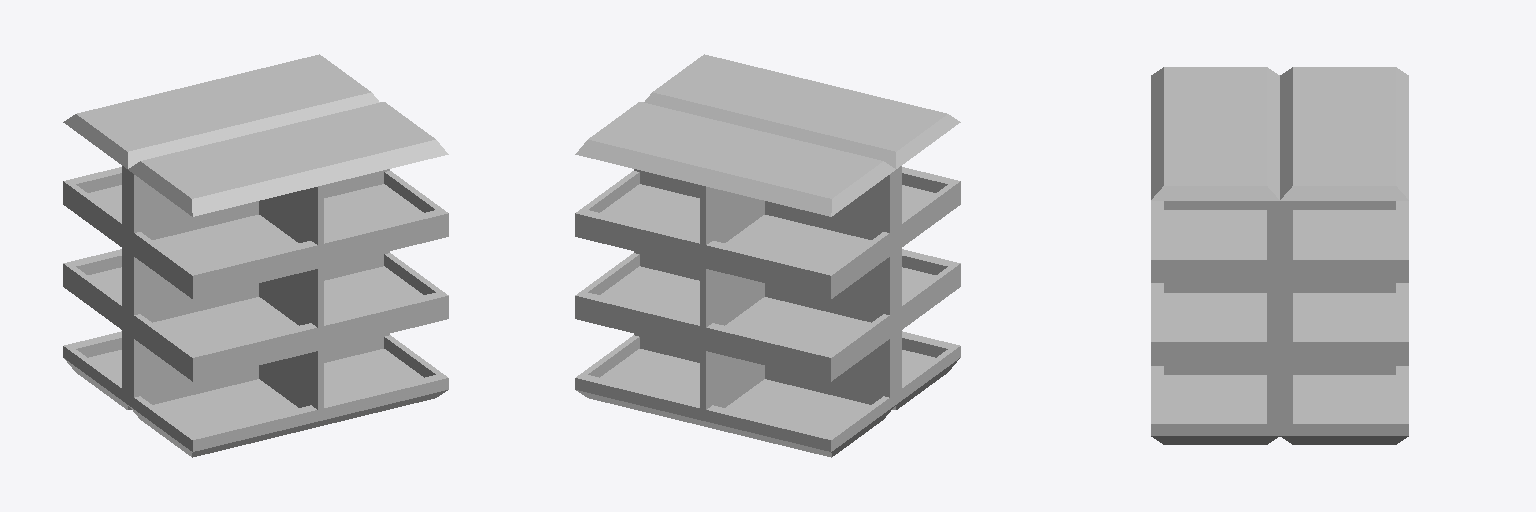
Rendered from thirdShelf.obj.
3 views of the same model, side by side, from view 1: azimuth 30°, elevation 25°; view 2: azimuth 150°, elevation 25°; view 3: azimuth 270°, elevation 25° (orthographic).
Visible parts, largest first — view 1: cabinet:pCube2; view 2: cabinet:pCube2; view 3: cabinet:pCube2.
Boxes of the visible parts, <box> form: cabinet:pCube2: <box>63,54,448,457</box>; cabinet:pCube2: <box>575,54,960,457</box>; cabinet:pCube2: <box>1151,67,1408,444</box>.
Bounding box in the file's own units: 8.03 × 7.75 × 7.03.